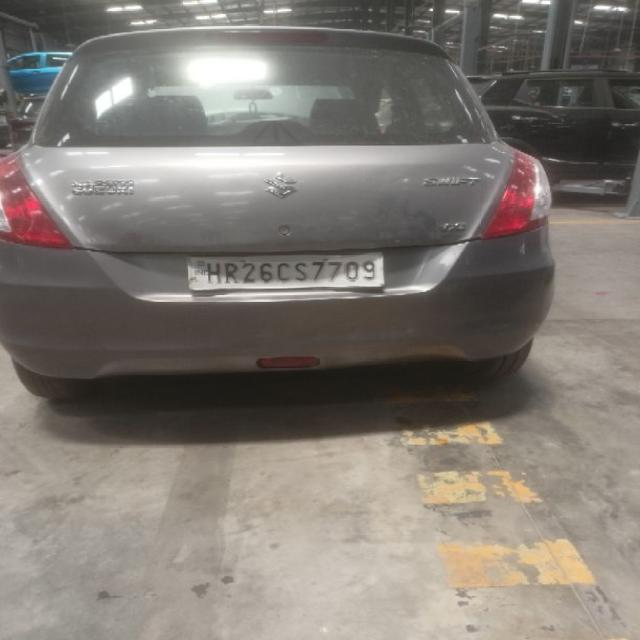license_plate: (184, 251, 386, 292)
